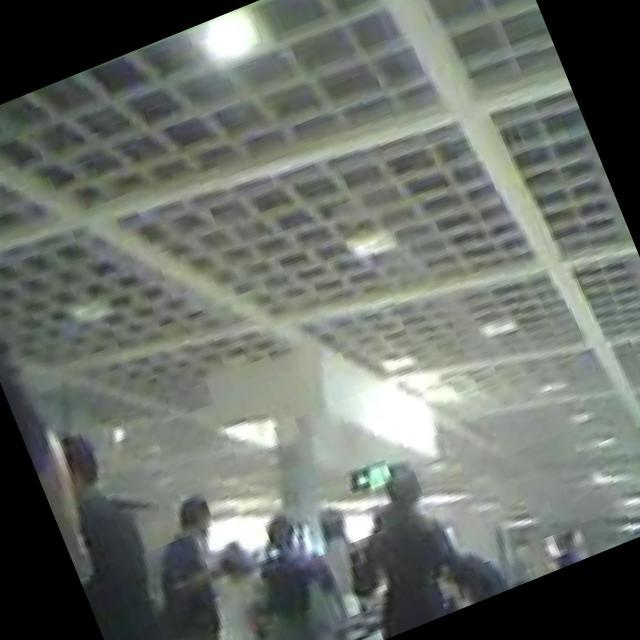person: (29, 427, 212, 640), (311, 452, 479, 640), (0, 308, 116, 576), (91, 487, 283, 640), (226, 507, 358, 640), (160, 529, 303, 640), (613, 348, 640, 522)
